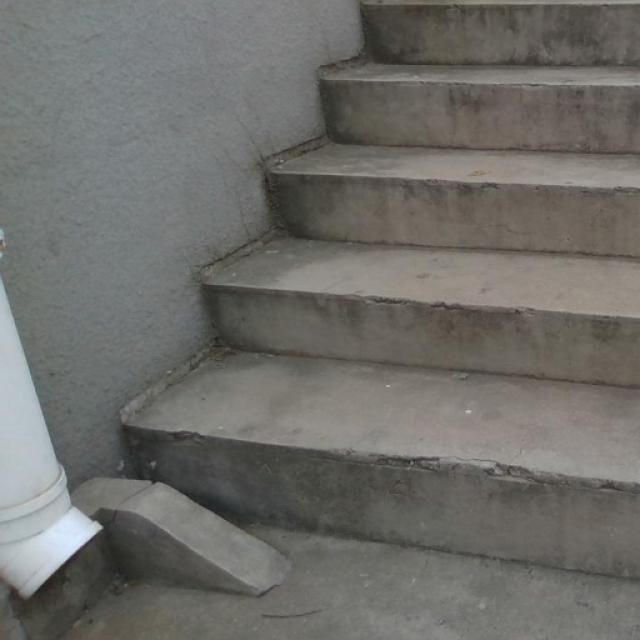Stairs: (115, 0, 639, 586)
